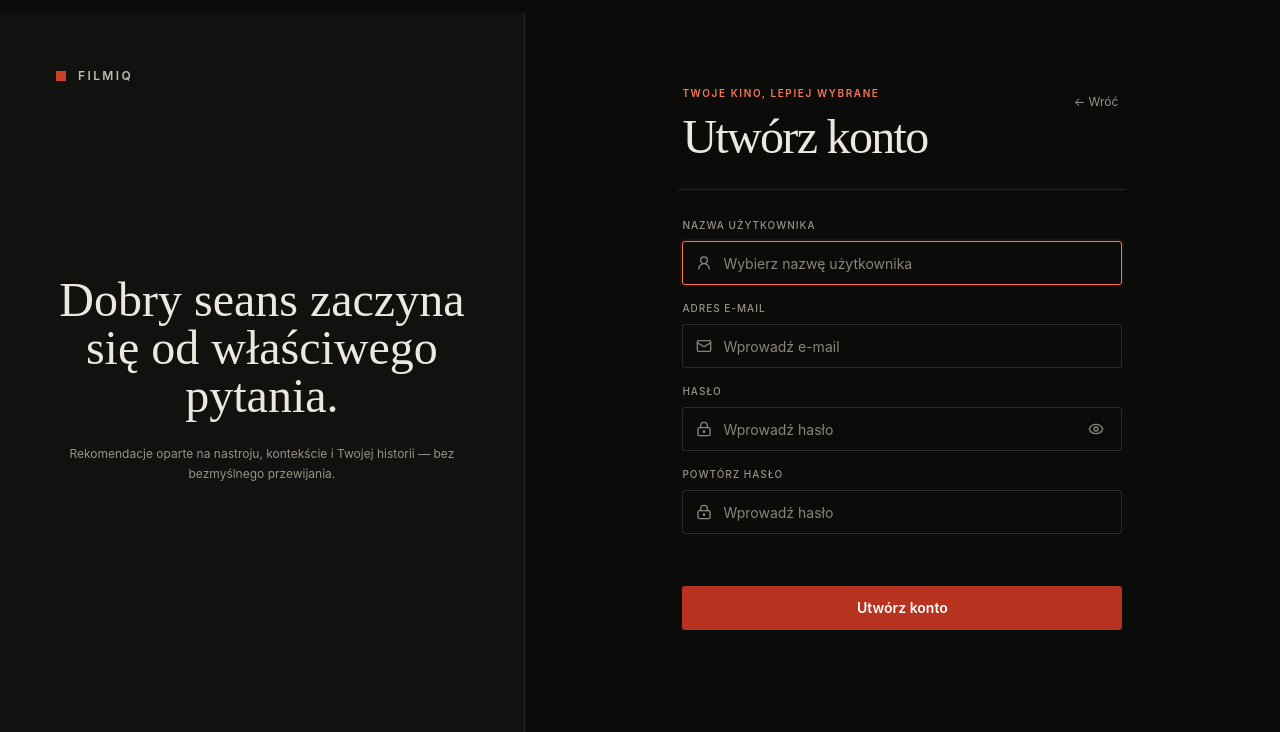
Test: App routing › registers an account through backend and opens the application
Type "new-user" into the field labelled "Nazwa użytkownika" at (902, 263), box [682, 241, 1122, 285]
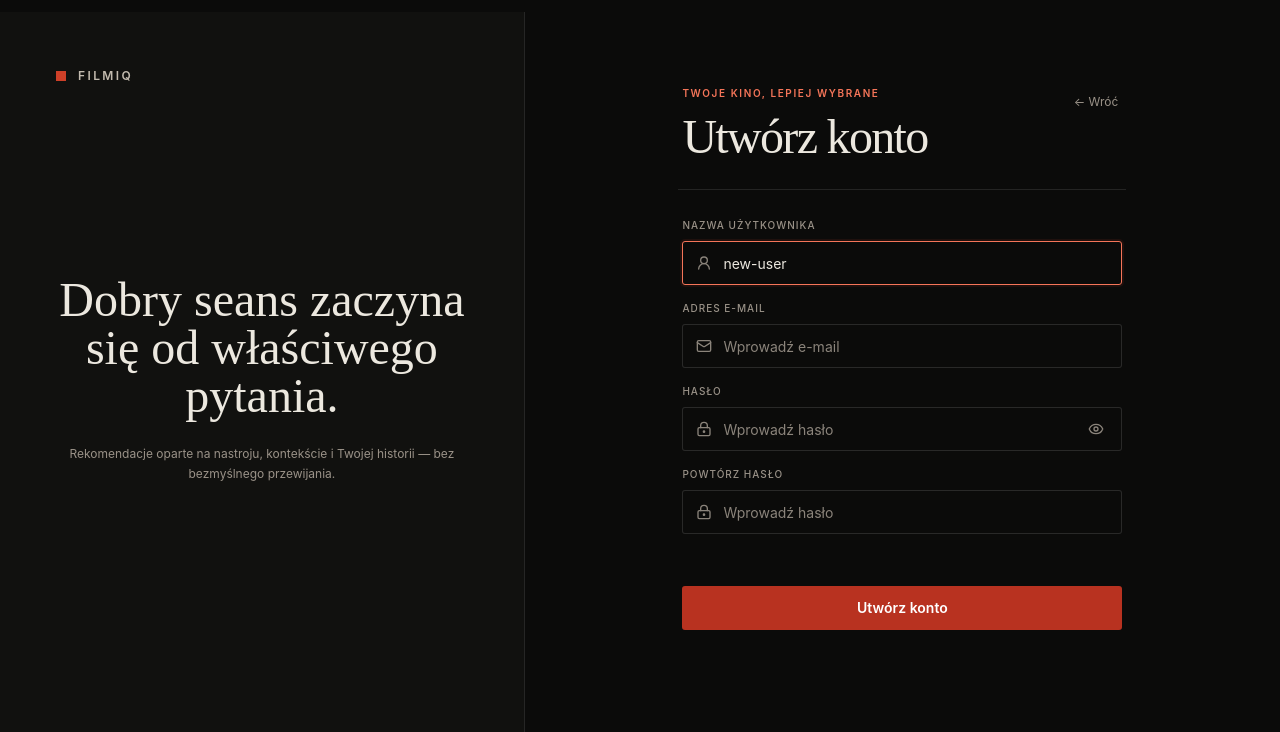
Type "new@example.com" into the field labelled "Adres e-mail" at (902, 346), box [682, 324, 1122, 368]
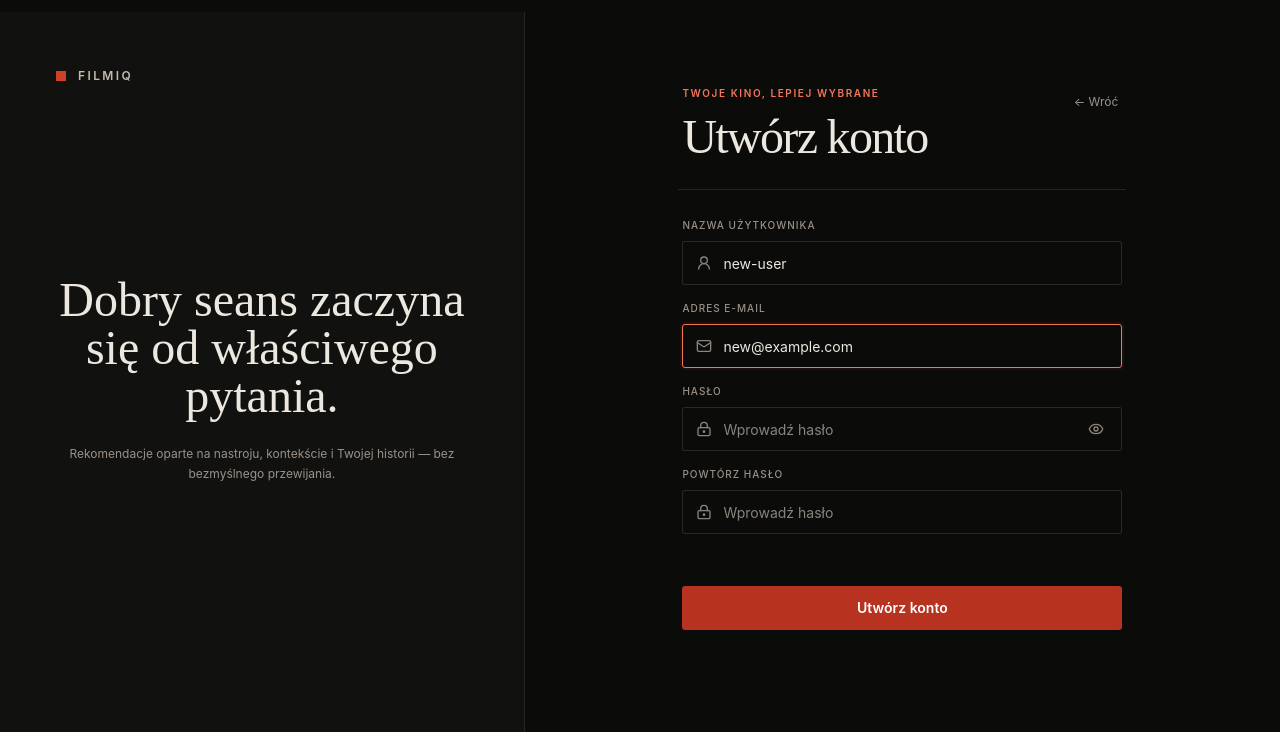
Type "StrongPassword123!" into the password field labelled "Hasło" at (902, 429), box [682, 407, 1122, 451]
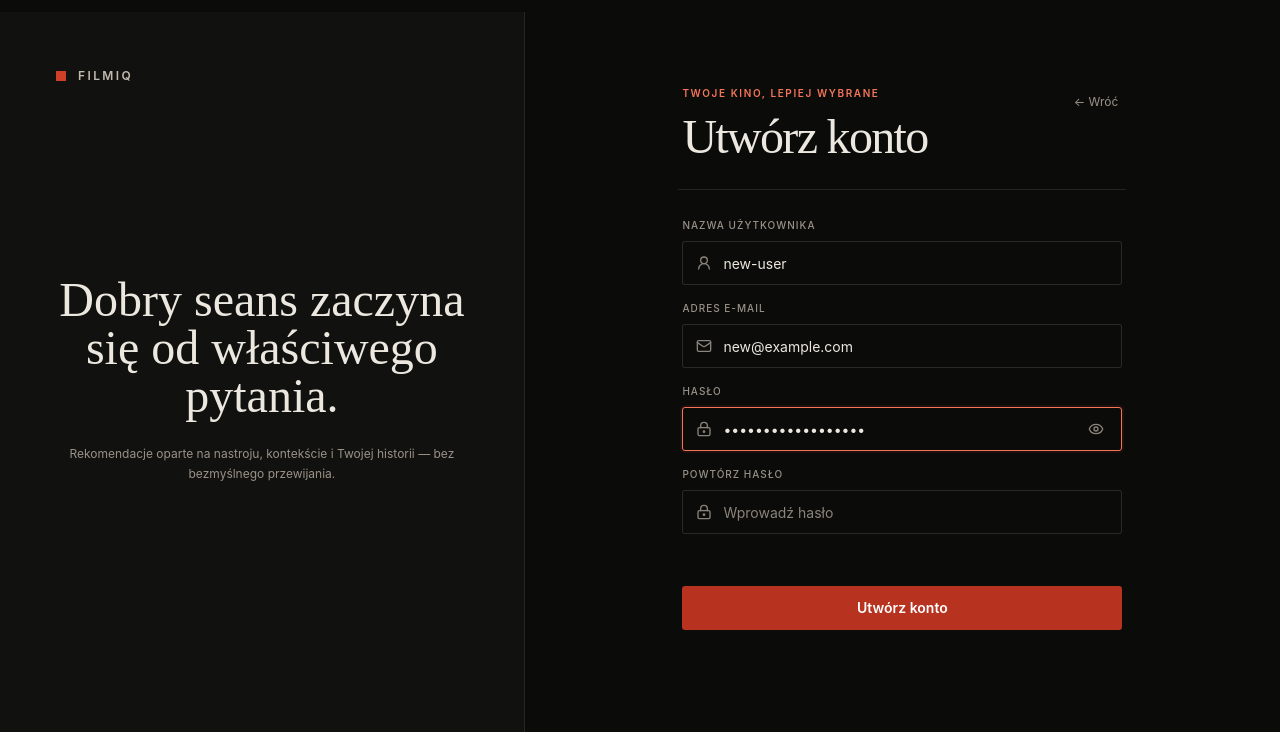
Type "StrongPassword123!" into the password field labelled "Powtórz hasło" at (902, 512), box [682, 490, 1122, 534]
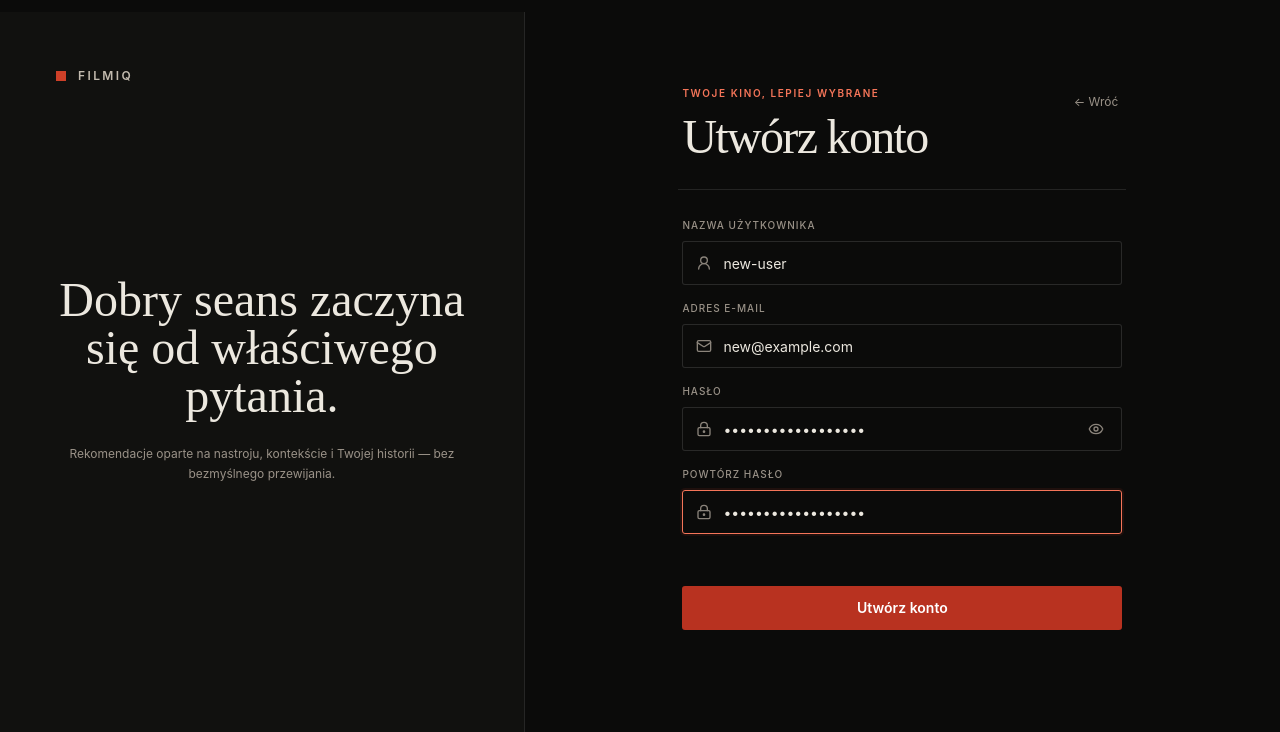
Click the button "Utwórz konto" at (902, 608), box [682, 586, 1122, 630]
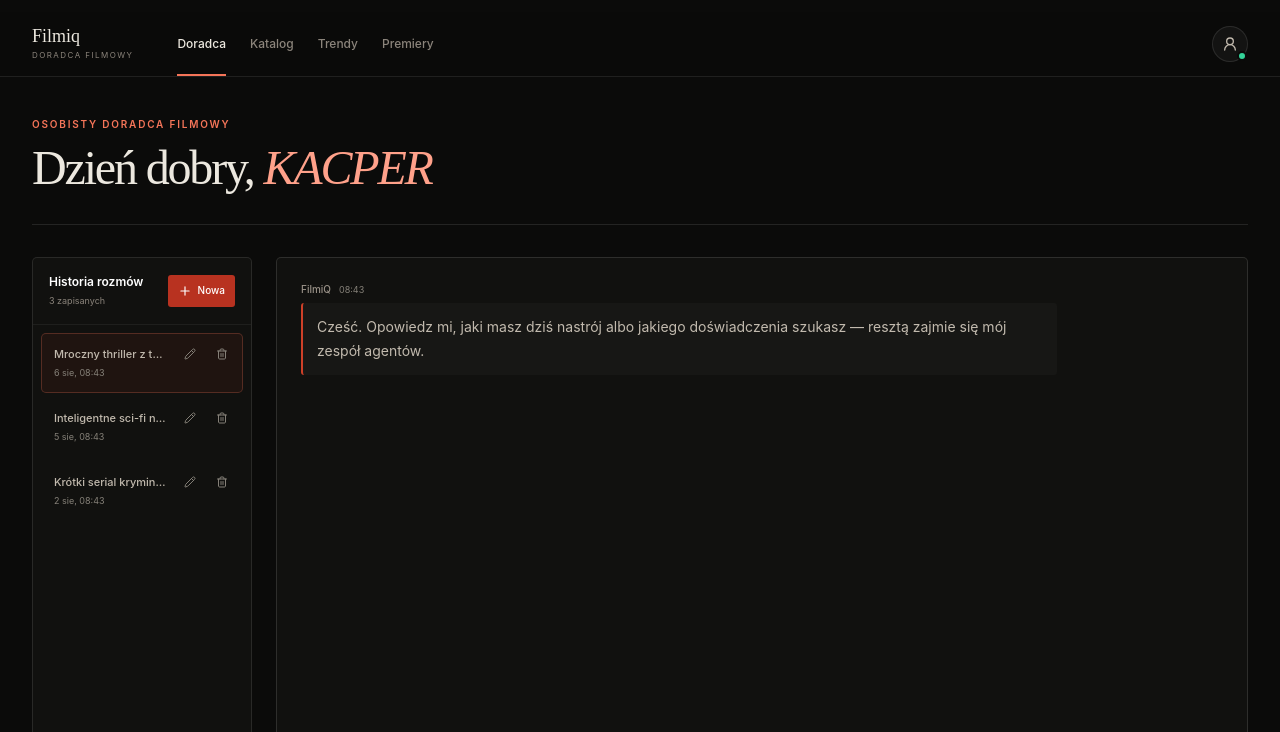
Expected: the heading "Dzień dobry, kacper" is shown, [32, 141, 432, 194]
